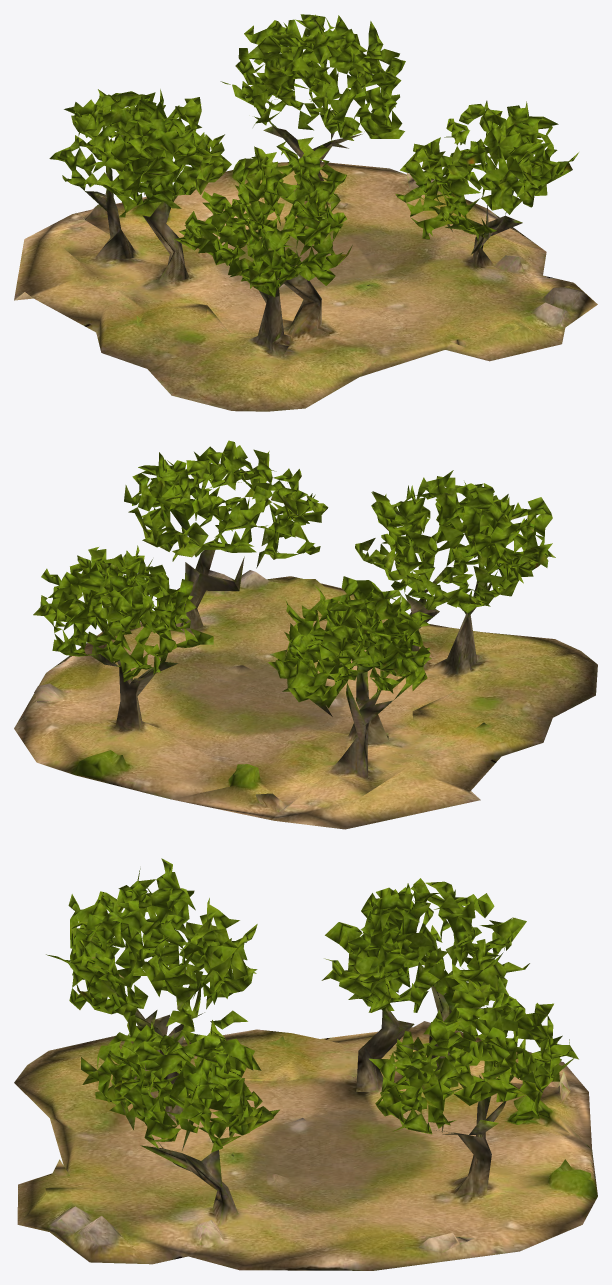
File: kit_van_orchard.glb
3 renders of one model, top to bottom at view 1: azimuth 30°, elevation 25°; view 2: azimuth 150°, elevation 25°; view 3: azimuth 270°, elevation 25°, orthographic. The views are drawn at different scales.
Visible parts, largest first — view 1: Mesh1.0; view 2: Mesh1.0; view 3: Mesh1.0.
Part boxes in pixels (<box>): Mesh1.0: <box>14,14,597,411</box>; Mesh1.0: <box>14,440,597,829</box>; Mesh1.0: <box>14,858,597,1270</box>.
Size of the model in its own units: 9.85 by 4.2 by 9.79.
1 material, 1 textured.
